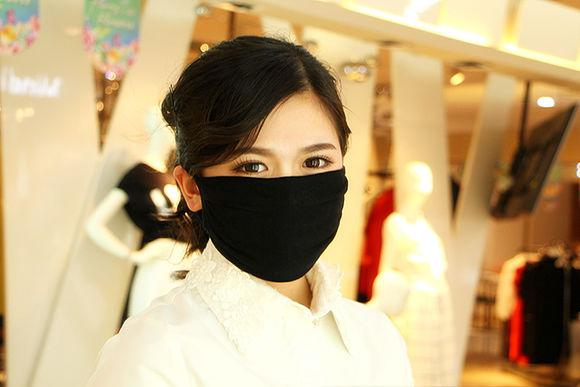OK: (206, 137, 342, 273)
